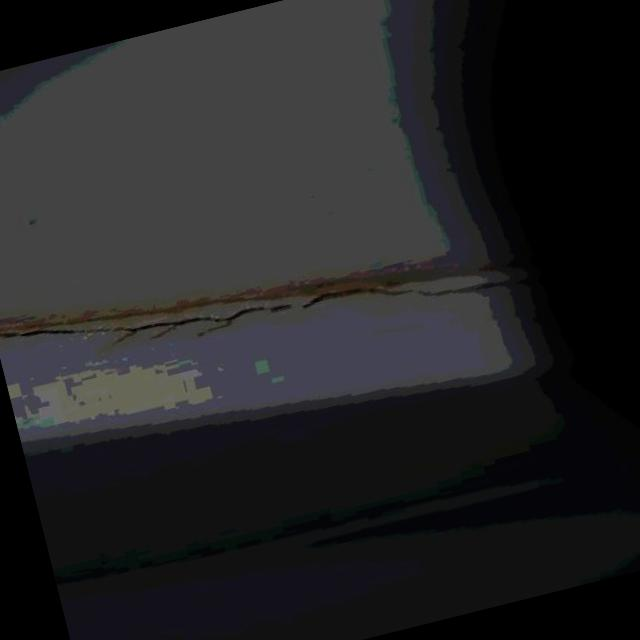crack: (296, 249, 496, 332), (133, 288, 294, 347), (0, 301, 128, 362)
